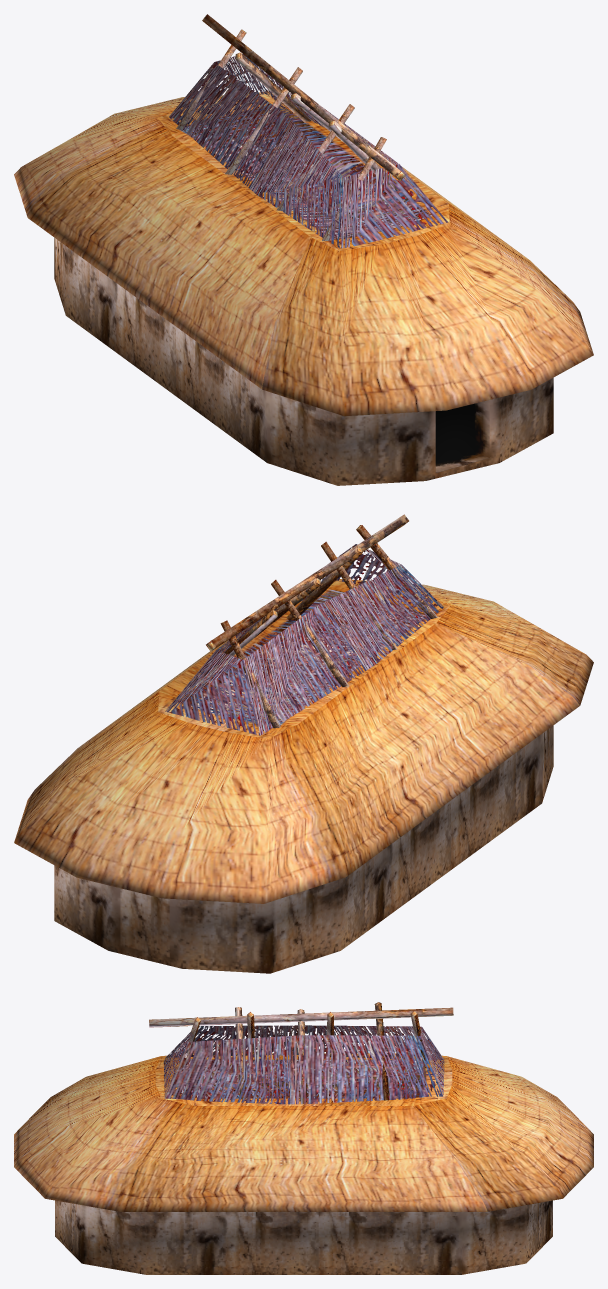
File: house.fbx
3 views of the same model, one above another, from view 1: azimuth 30°, elevation 25°; view 2: azimuth 150°, elevation 25°; view 3: azimuth 270°, elevation 25° (orthographic). The views are drawn at different scales.
Visible parts, largest first — view 1: Cube; view 2: Cube; view 3: Cube.
Part boxes in pixels (<box>): Cube: <box>14,14,593,485</box>; Cube: <box>14,514,593,973</box>; Cube: <box>14,1002,593,1274</box>.
Size of the model in its own units: 11.57 by 9.53 by 23.28.
